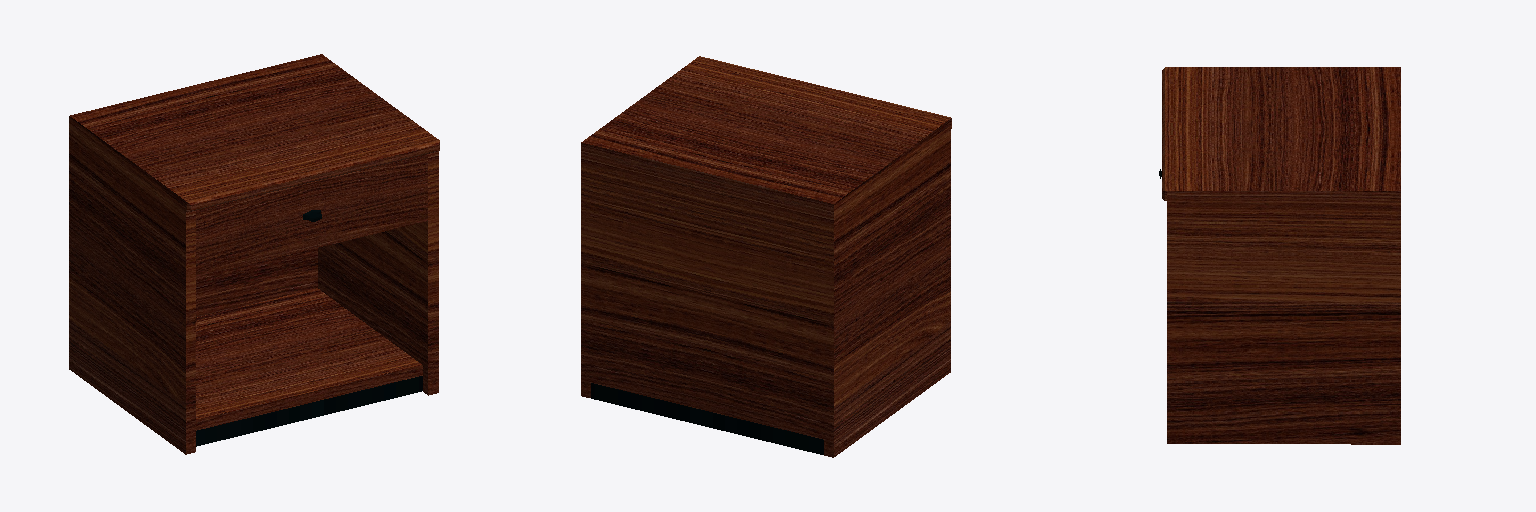
The picture shows the model from 3 angles: view 1: azimuth 30°, elevation 25°; view 2: azimuth 150°, elevation 25°; view 3: azimuth 270°, elevation 25°; orthographic projection.
Visible parts, largest first — view 1: Plane_Plane.001, Drawer.002, Plane.002; view 2: Plane_Plane.001, Plane.002; view 3: Plane_Plane.001.
Part boxes in pixels (x1,y1,x2,y2): Plane_Plane.001: (69, 54, 439, 454); Drawer.002: (196, 154, 427, 276); Plane.002: (196, 376, 422, 446); Plane_Plane.001: (581, 56, 951, 457); Plane.002: (591, 383, 823, 454); Plane_Plane.001: (1162, 67, 1400, 444).
Size of the model in its own units: 50.01 by 48.01 by 41.45.
2 materials, 2 textured.